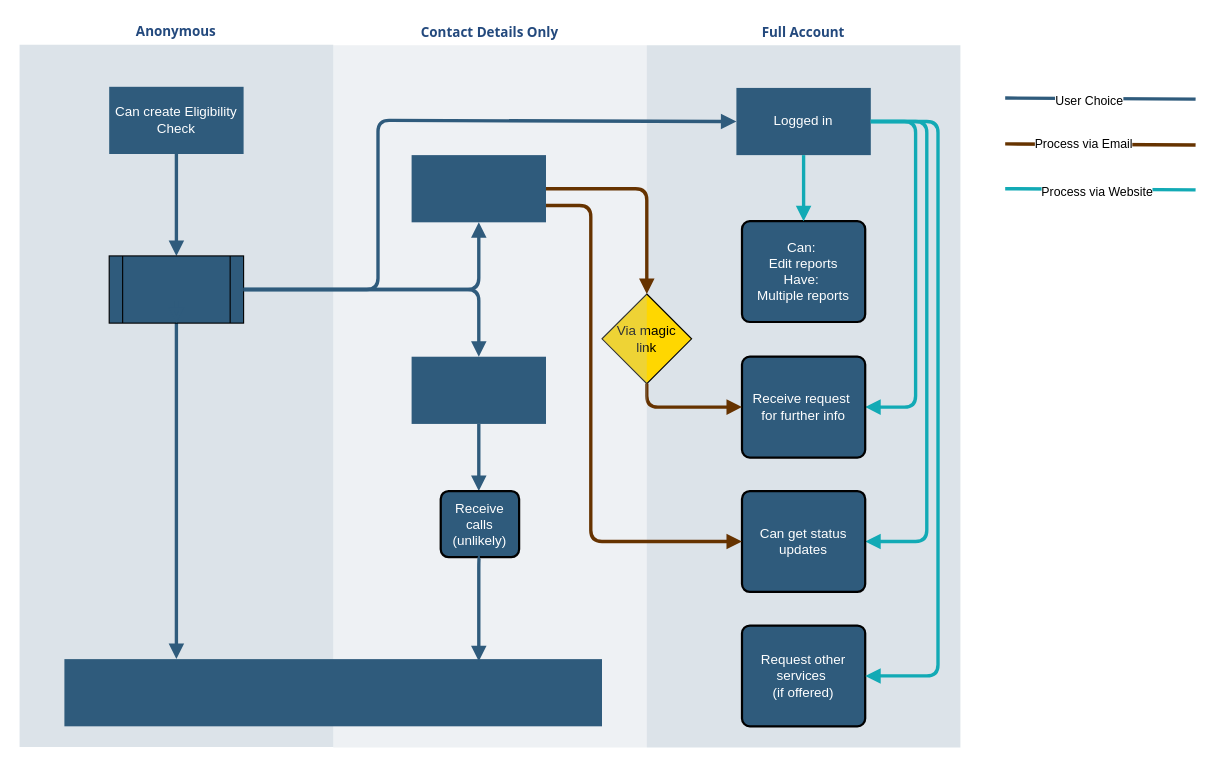
Some shapes in this 1217 by 767 pixel diagram are drawn without their labels. Each missing label, with the centre of its shape:
"Can login or add contacts" belongs at [176,289].
"No further ability to edit or do anything with the record once saved" belongs at [332,692].
"Provide email" belongs at [478,188].
"Provide phone only" belongs at [478,389].
